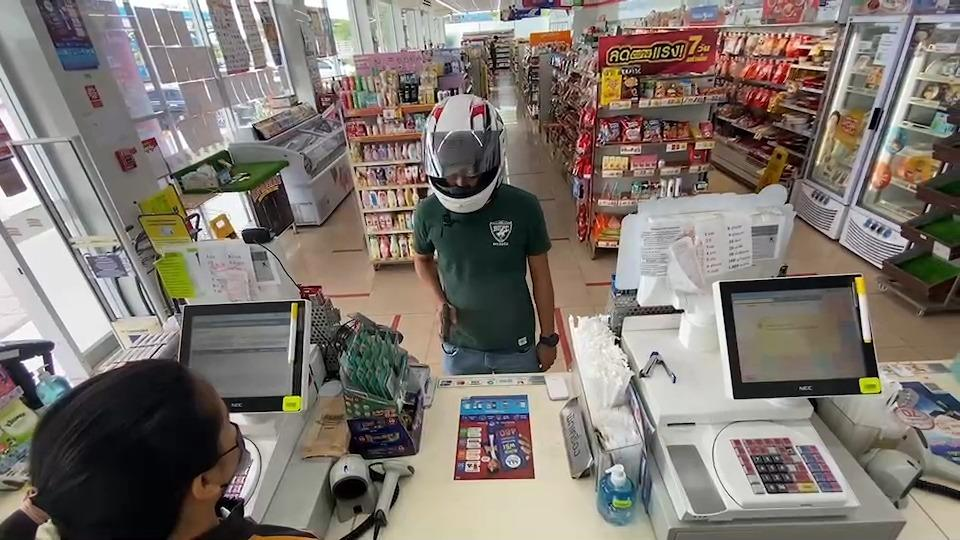criminal: (410, 93, 559, 374)
weapon: (437, 301, 457, 345)
